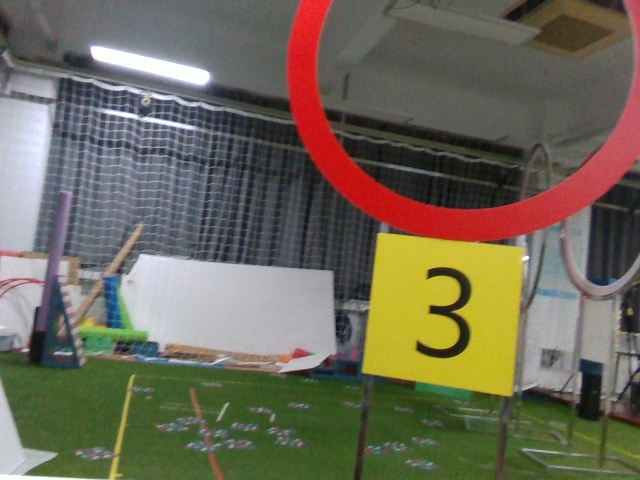target: (374, 255, 517, 371)
